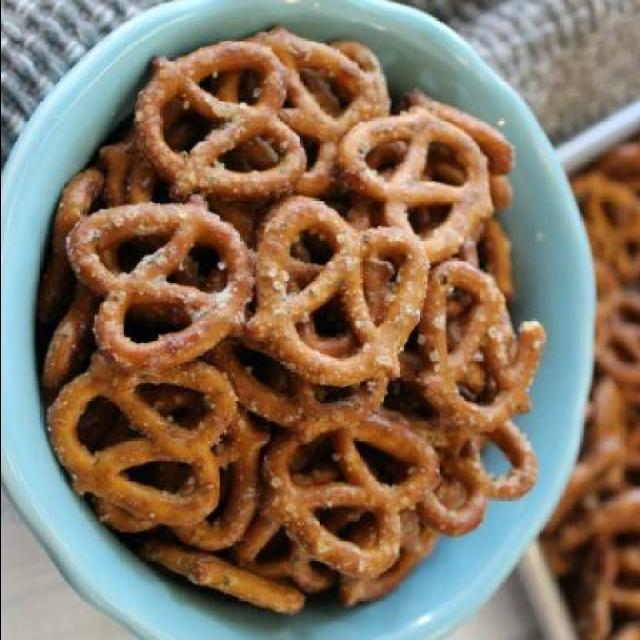Salatini packaged: (58, 36, 540, 628)
